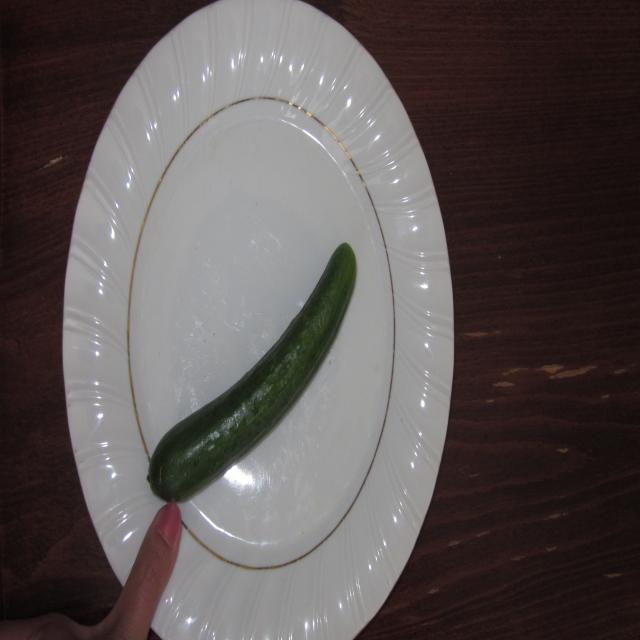cucumber: (139, 240, 364, 514)
